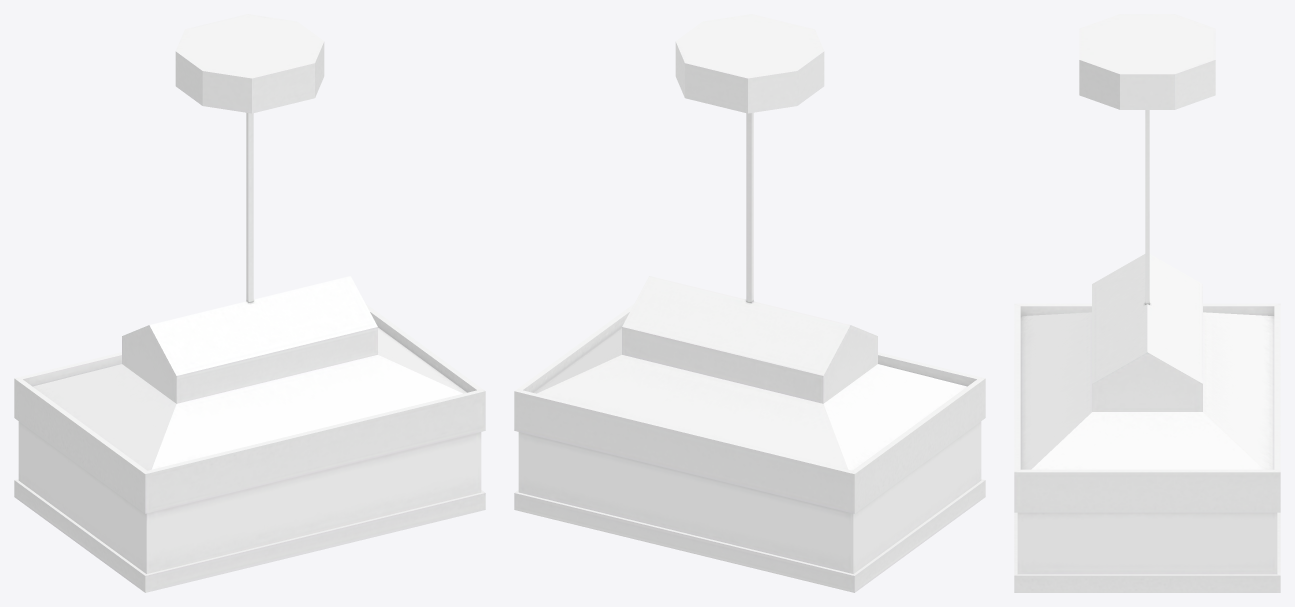
Rendered from Vegetable_counter.glb.
3 views of the same model, side by side, from view 1: azimuth 30°, elevation 25°; view 2: azimuth 150°, elevation 25°; view 3: azimuth 270°, elevation 25° (orthographic).
Visible parts, largest first — view 1: Vegetable_counter_baked; view 2: Vegetable_counter_baked; view 3: Vegetable_counter_baked.
Boxes of the visible parts, x1,y1,x2,y2 form: Vegetable_counter_baked: (14,14,485,592); Vegetable_counter_baked: (514,14,985,592); Vegetable_counter_baked: (1014,14,1280,592).
Size of the model in its own units: 2.59 by 3.33 by 1.73.
1 material, 1 textured.
